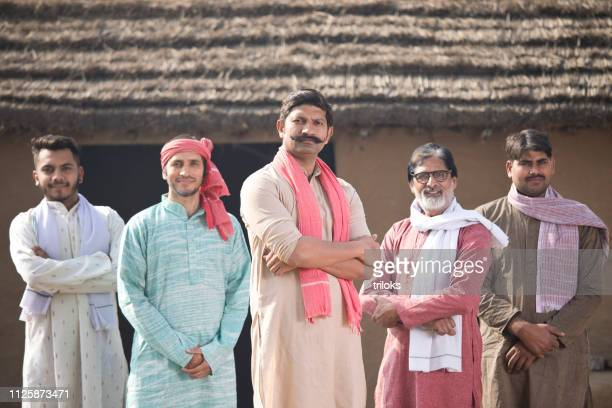men: (143, 132, 226, 220), (261, 92, 345, 168), (493, 125, 573, 202), (21, 129, 98, 201), (400, 141, 467, 220)
